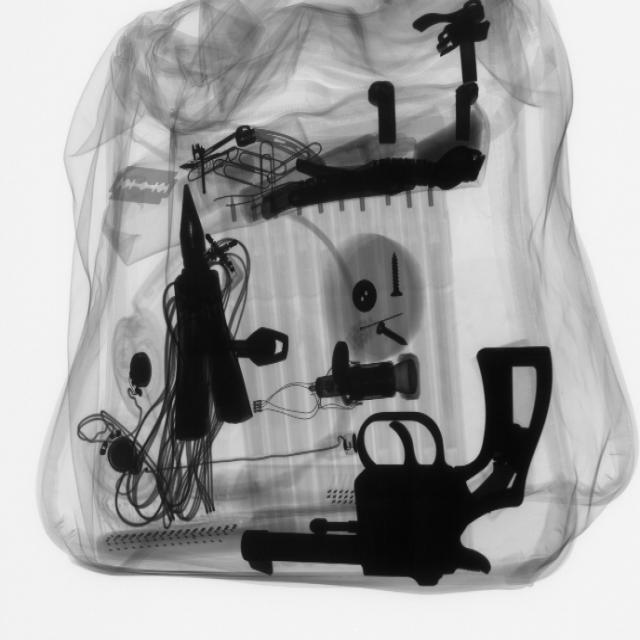BLADE: (104, 163, 185, 211)
GUN: (243, 342, 567, 584)
SCREW: (376, 315, 418, 356), (385, 251, 412, 306)
